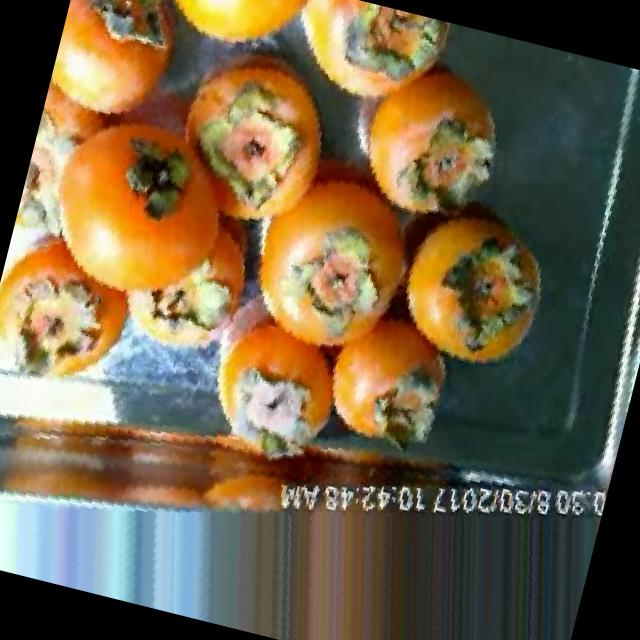Fruit: (0, 206, 156, 419), (127, 0, 323, 84)
